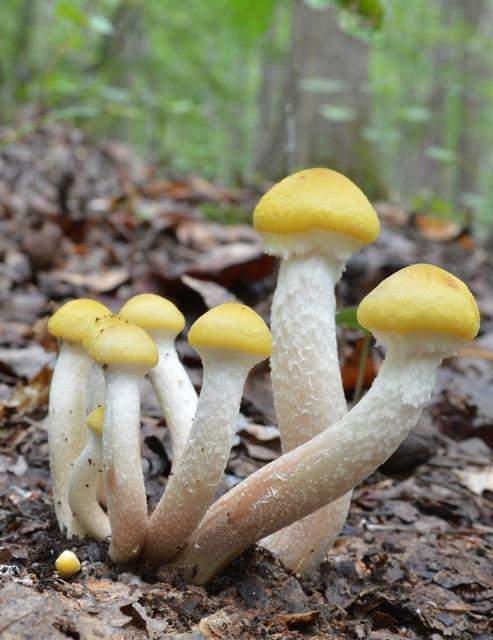Edible Mushroom: (167, 261, 480, 587), (250, 166, 380, 579), (142, 301, 272, 570), (83, 316, 159, 565), (45, 297, 113, 541), (117, 292, 199, 475)
